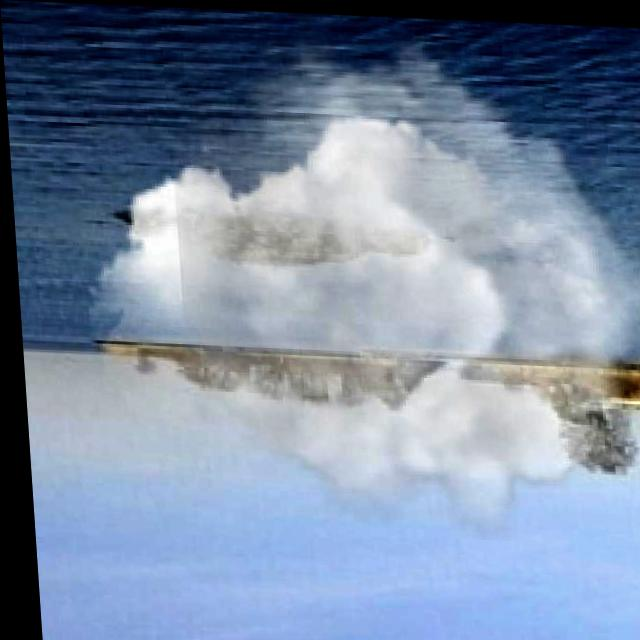no_helmet: (68, 8, 640, 541)
